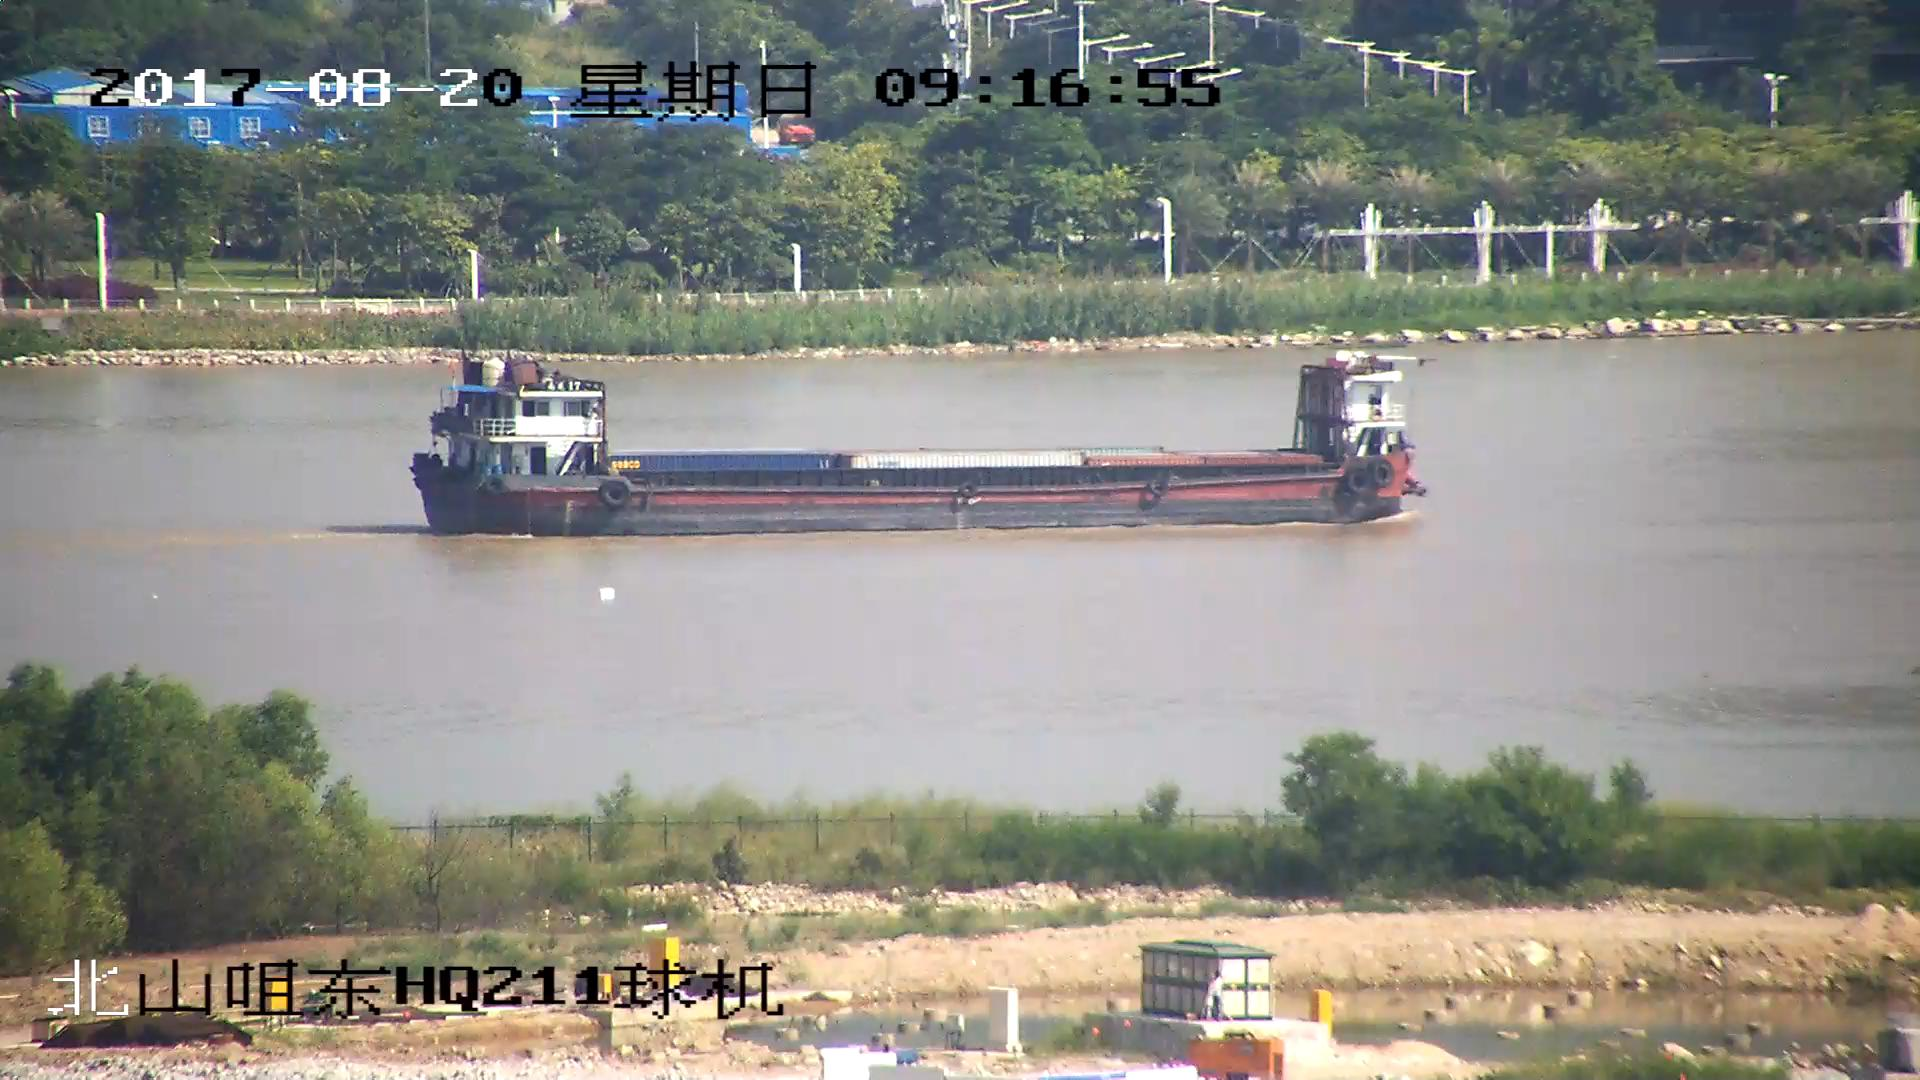general cargo ship: (407, 355, 1427, 536)
